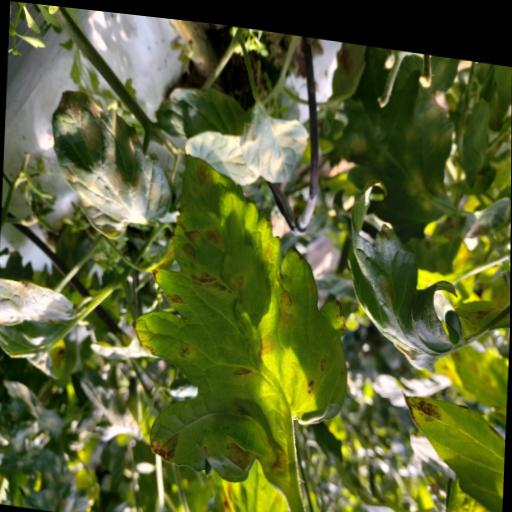Leaf Mold: (128, 143, 357, 492), (341, 164, 465, 366), (334, 32, 455, 234), (45, 83, 174, 242), (236, 93, 310, 180)
